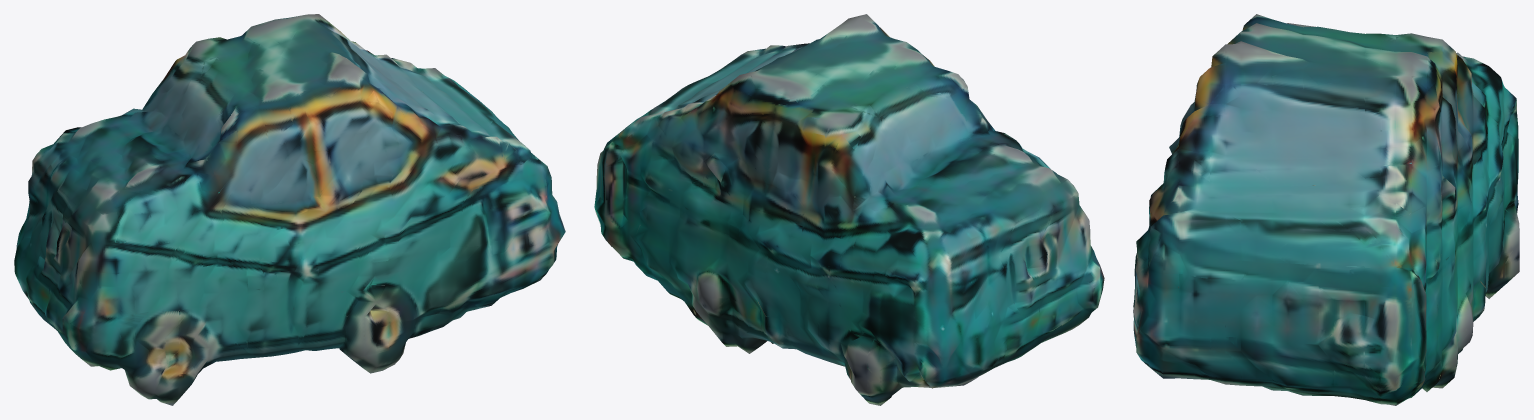
3 renders of one model, left to right at view 1: azimuth 30°, elevation 25°; view 2: azimuth 150°, elevation 25°; view 3: azimuth 270°, elevation 25°, orthographic. The views are drawn at different scales.
Parts seen in each view (by area): view 1: world; view 2: world; view 3: world.
Part boxes in pixels (x1,y1,x2,y2): world: [14, 14, 565, 405]; world: [594, 14, 1104, 405]; world: [1133, 14, 1519, 405].
Size of the model in its own units: 1.07 by 0.6308 by 0.6887.
Materials: 1 (1 with a texture image).
